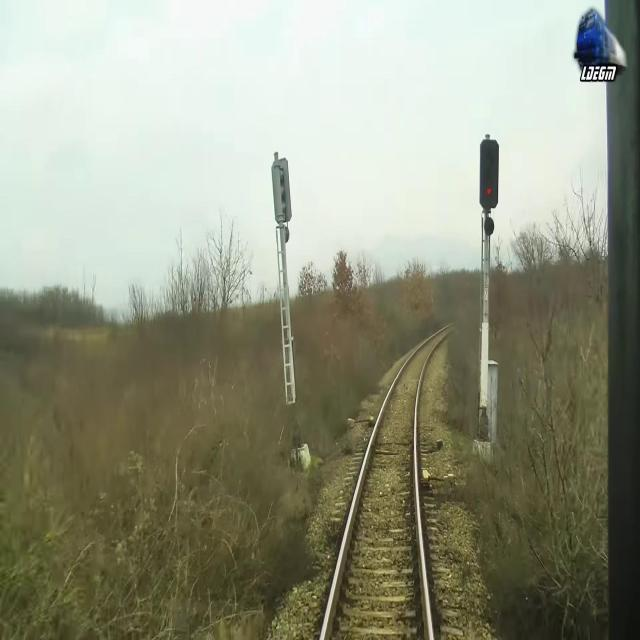rail-track: (324, 324, 455, 639)
